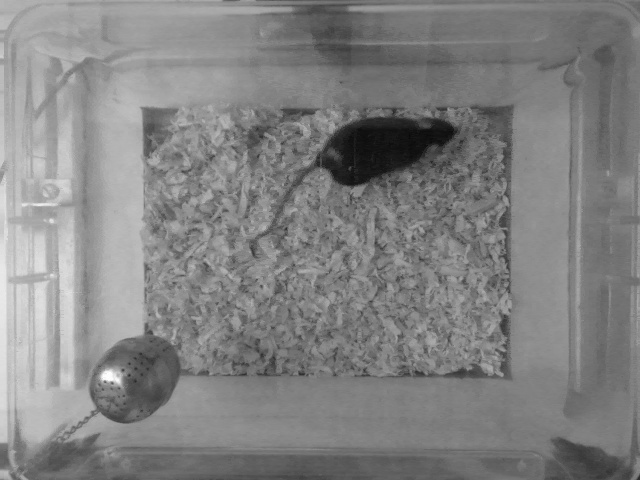mice: (249, 114, 460, 258)
